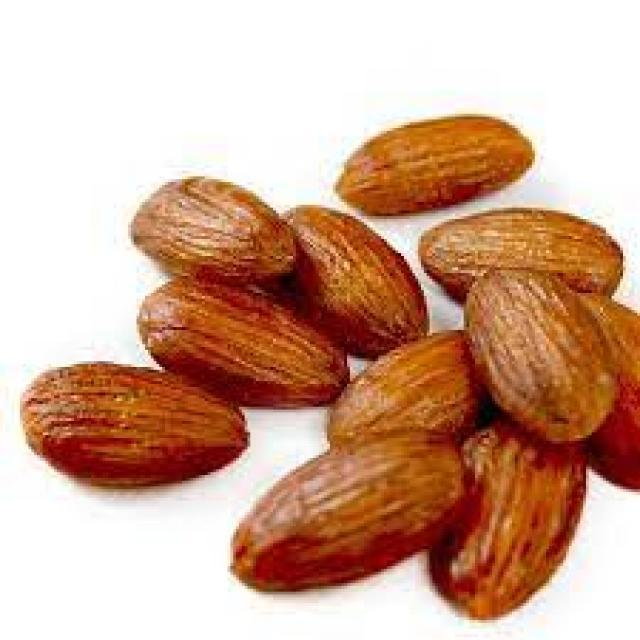almond: (229, 428, 464, 595), (18, 358, 252, 490), (430, 427, 590, 615), (140, 277, 353, 413), (465, 265, 620, 448), (268, 205, 430, 362), (335, 113, 537, 217), (327, 325, 487, 450), (128, 177, 300, 285), (422, 205, 623, 295)
